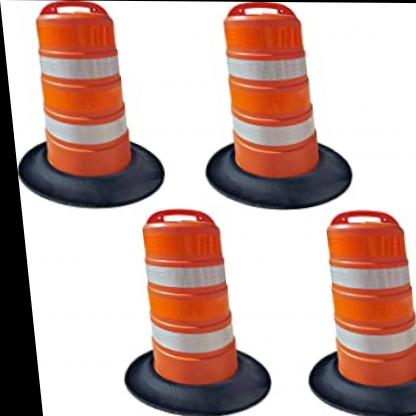obstacle: (134, 206, 237, 384), (218, 3, 318, 180), (319, 209, 416, 388), (33, 2, 130, 179)
